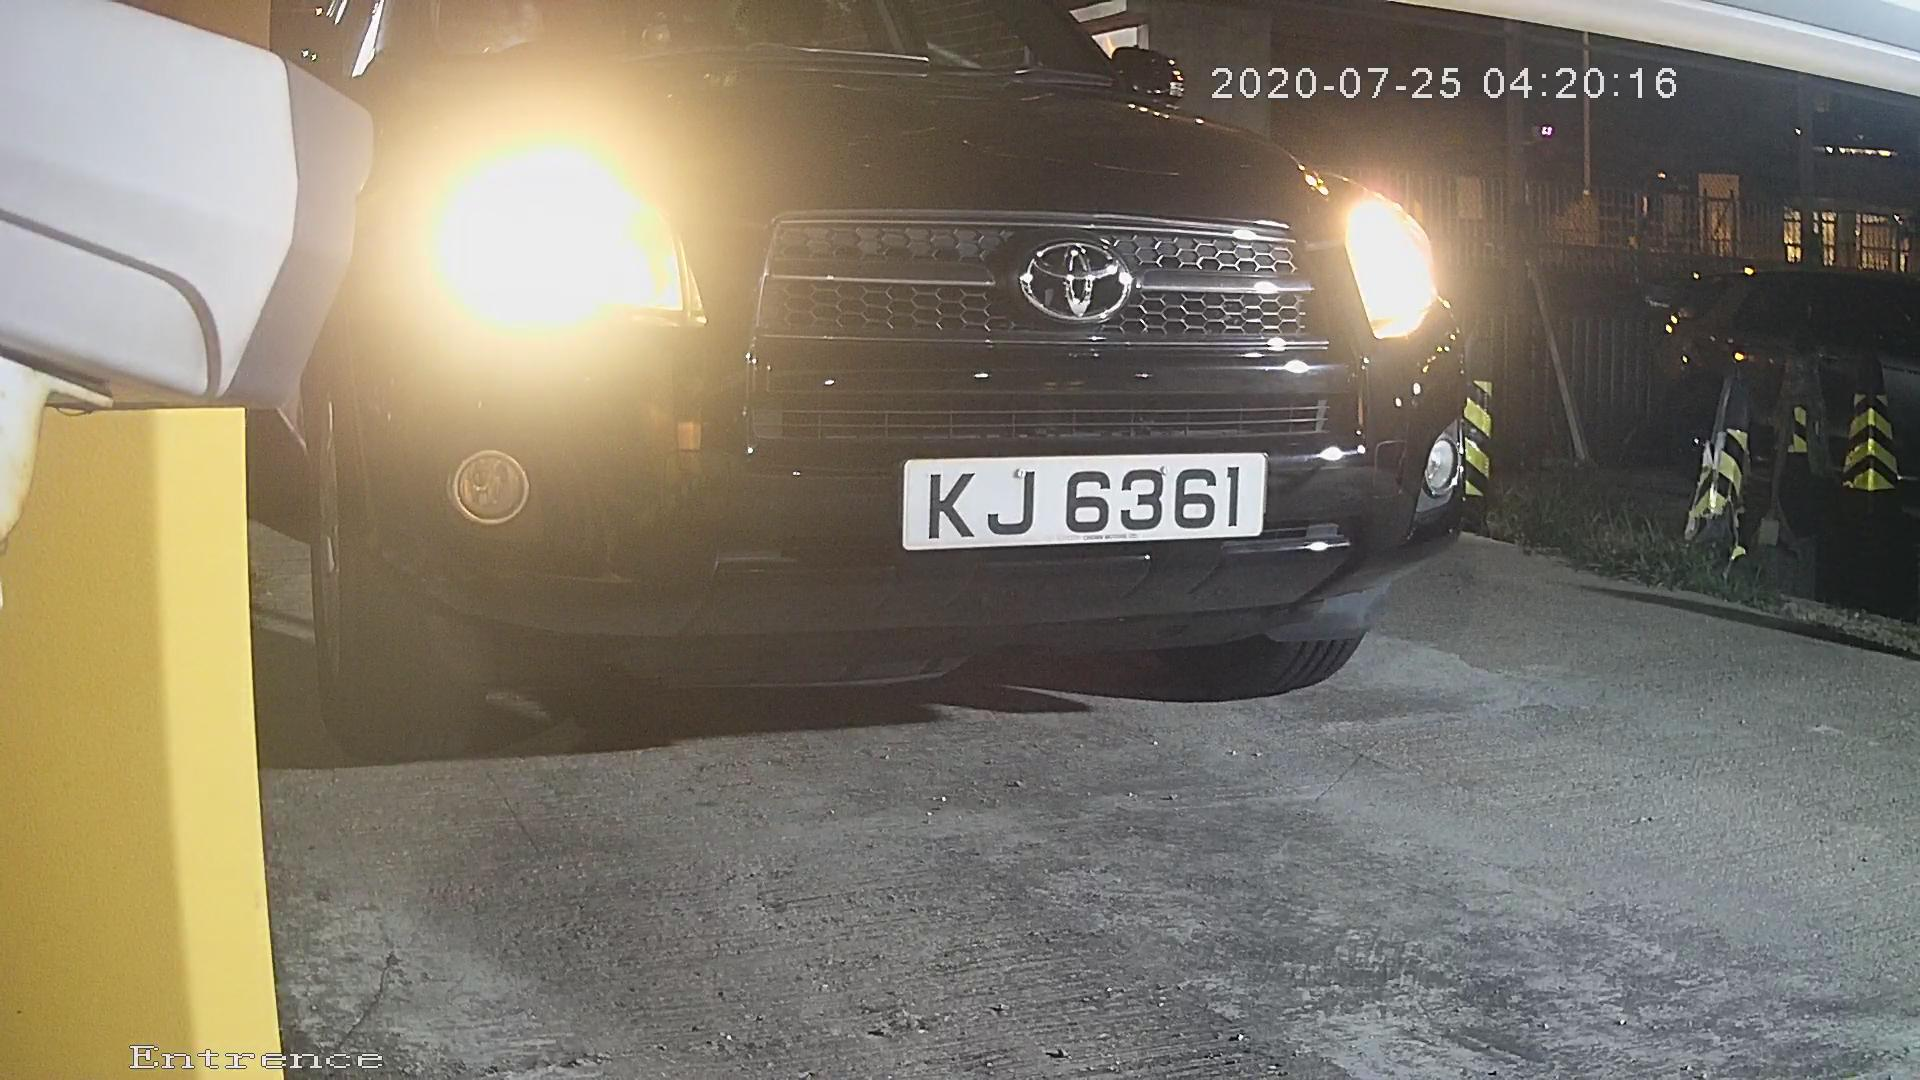Car: (112, 1, 1561, 767)
License Plate: (849, 439, 1303, 555)
